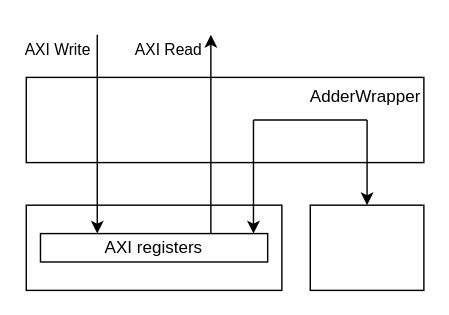
This 449x315 diagram has some shape labels left out. The shapes that lost their labels are listed below. From the top down, each one's box as (x1, y1, x2, y2) in pixels, then its label:
(25, 204, 282, 290): S00_AXI
(309, 204, 424, 290): Adder
